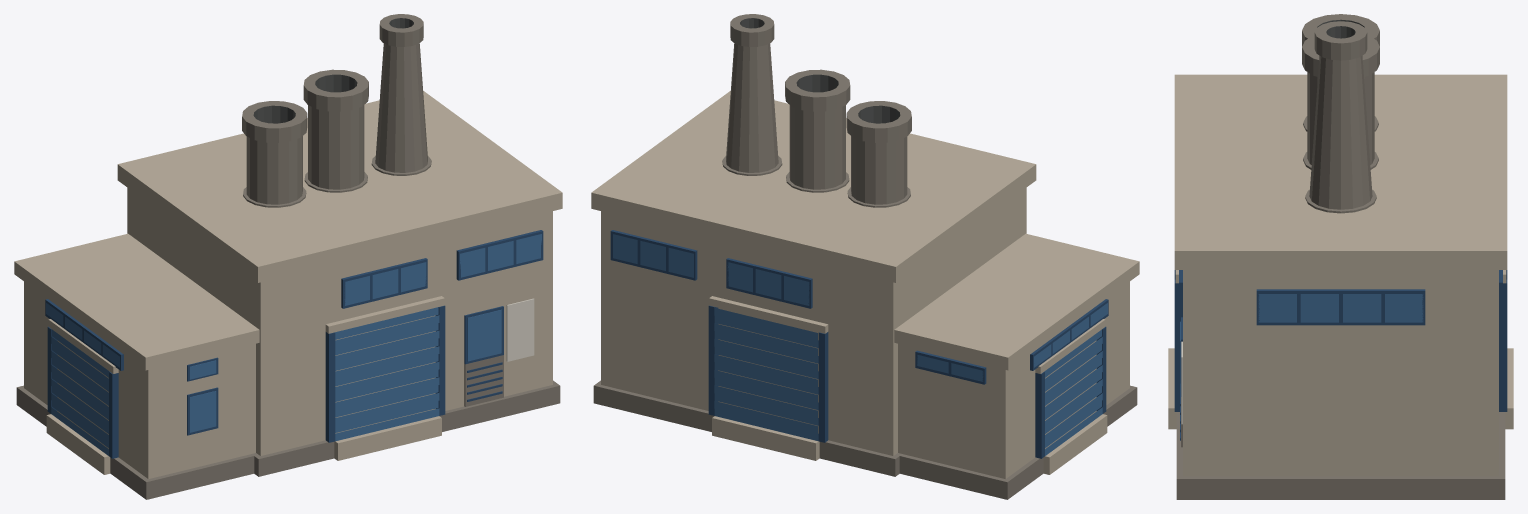
The model's file is factory building a.fbx.
The picture shows the model from 3 angles, left to right: view 1: azimuth 30°, elevation 25°; view 2: azimuth 150°, elevation 25°; view 3: azimuth 270°, elevation 25°; orthographic projection. The views are drawn at different scales.
Visible parts, largest first — view 1: Factory_Building_A; view 2: Factory_Building_A; view 3: Factory_Building_A.
Part boxes in pixels (x1,y1,x2,y2): Factory_Building_A: (14, 14, 562, 499); Factory_Building_A: (591, 14, 1139, 499); Factory_Building_A: (1168, 14, 1513, 499).
Size of the model in its own units: 542 by 436 by 328.
